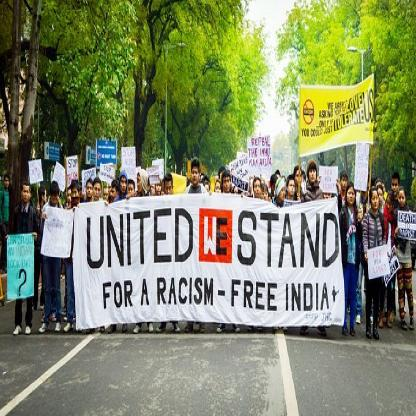BANNER: (75, 195, 344, 332)
